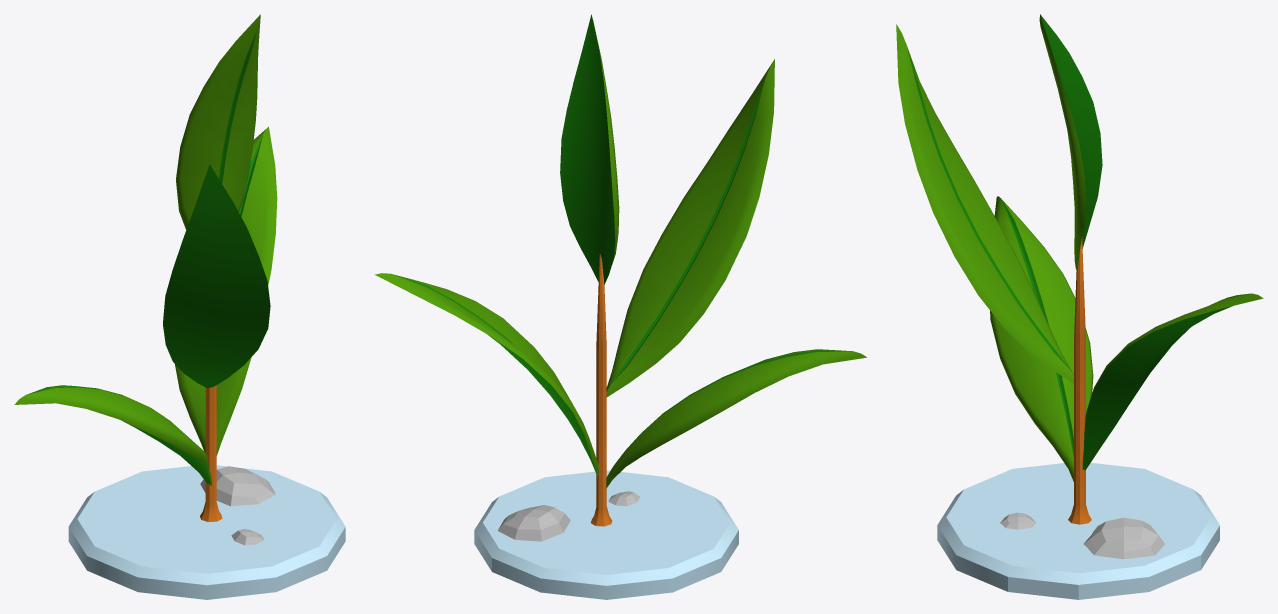
File: Herb2.fbx
3 views of the same model, side by side, from view 1: azimuth 30°, elevation 25°; view 2: azimuth 150°, elevation 25°; view 3: azimuth 270°, elevation 25° (orthographic). The views are drawn at different scales.
Parts seen in each view (by area): view 1: Herb2_LOD0; view 2: Herb2_LOD0; view 3: Herb2_LOD0.
Part boxes in pixels (x1,y1,x2,y2): Herb2_LOD0: (14,14,345,599); Herb2_LOD0: (375,14,866,599); Herb2_LOD0: (896,14,1263,599).
Size of what is drawn, in the model's own units: 270 by 356 by 218.
